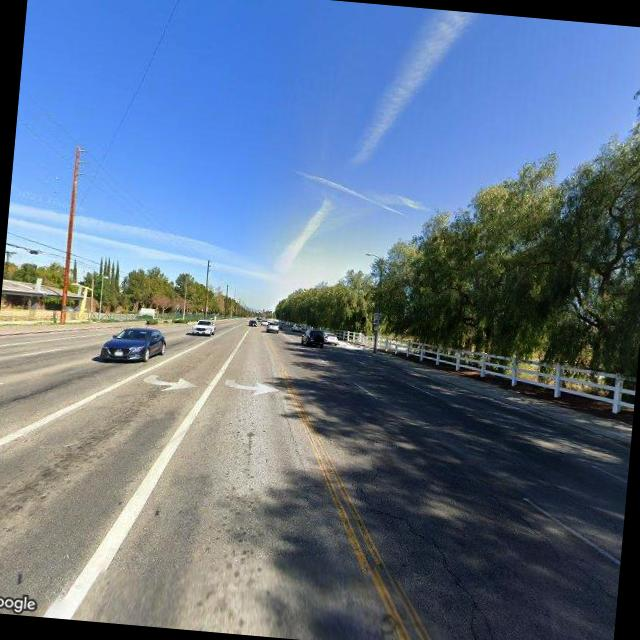pothole: (338, 474, 507, 640), (462, 477, 620, 595)
